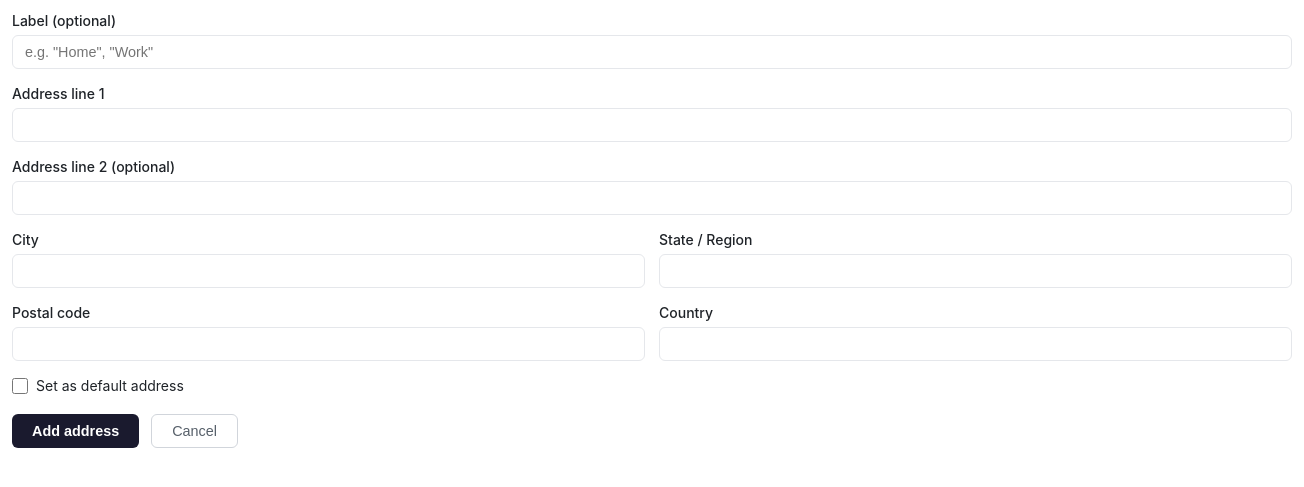
Test: AddressForm validation › shows error when country is too short
Type "123 Main St" into the field labelled "Address line 1". click: (652, 125)
box: [12,108,1292,142]
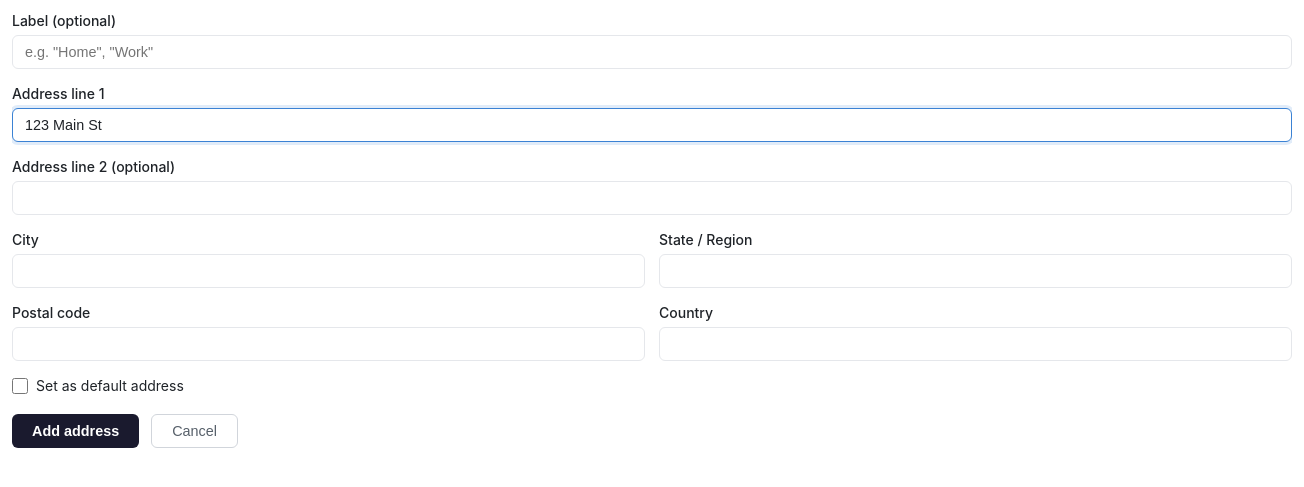
Type "Springfield" into the field labelled "City". click: (328, 271)
box: [12,254,645,288]
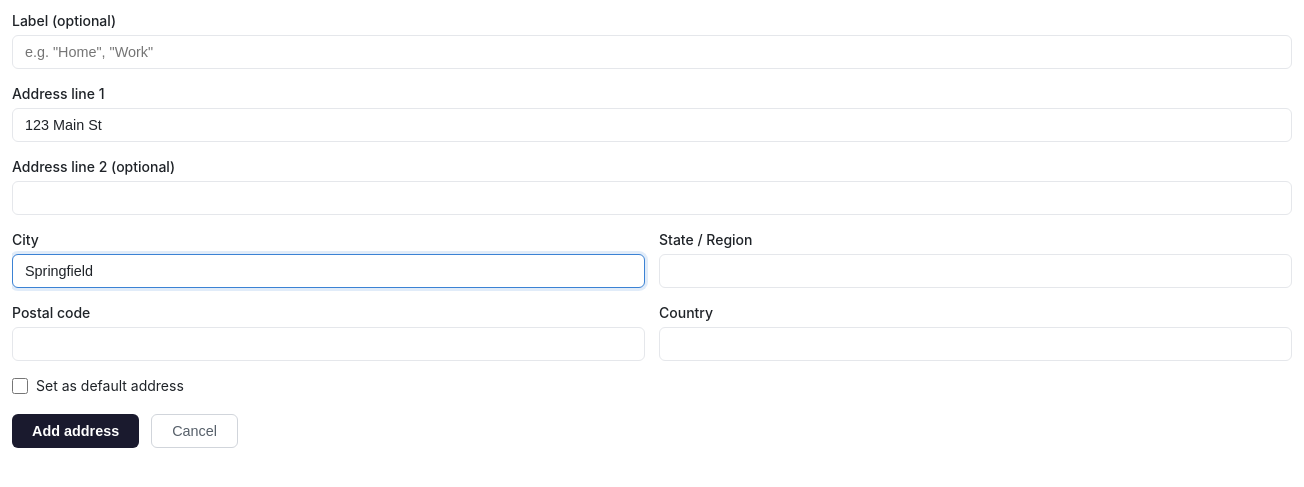
Type "IL" into the field labelled "State / Region". click: (976, 271)
box: [659,254,1292,288]
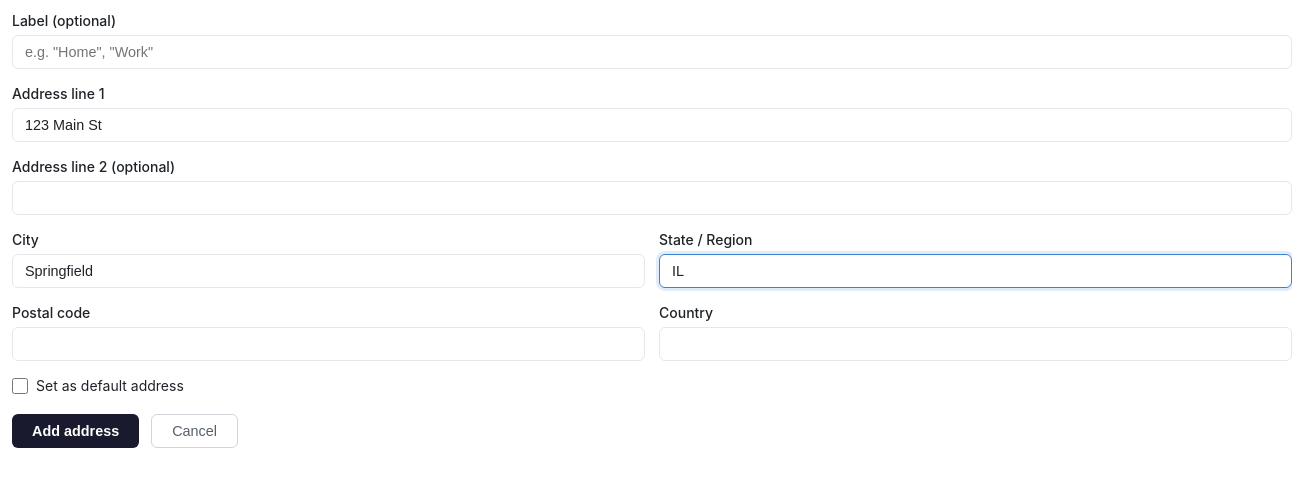
Type "62701" into the field labelled "Postal code". click: (328, 344)
box: [12,327,645,361]
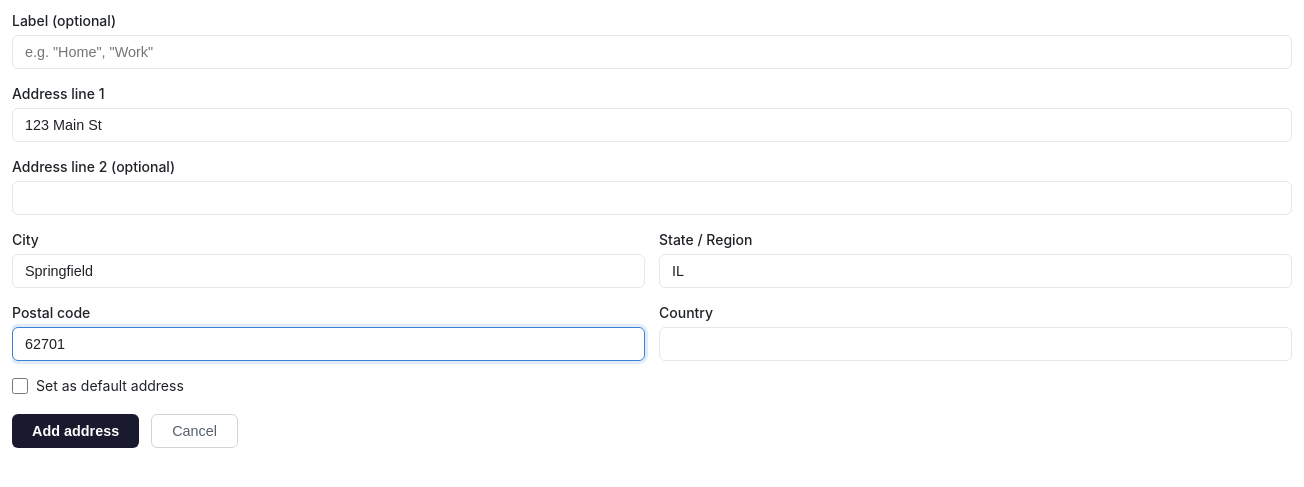
Type "U" into the field labelled "Country". click: (976, 344)
box: [659,327,1292,361]
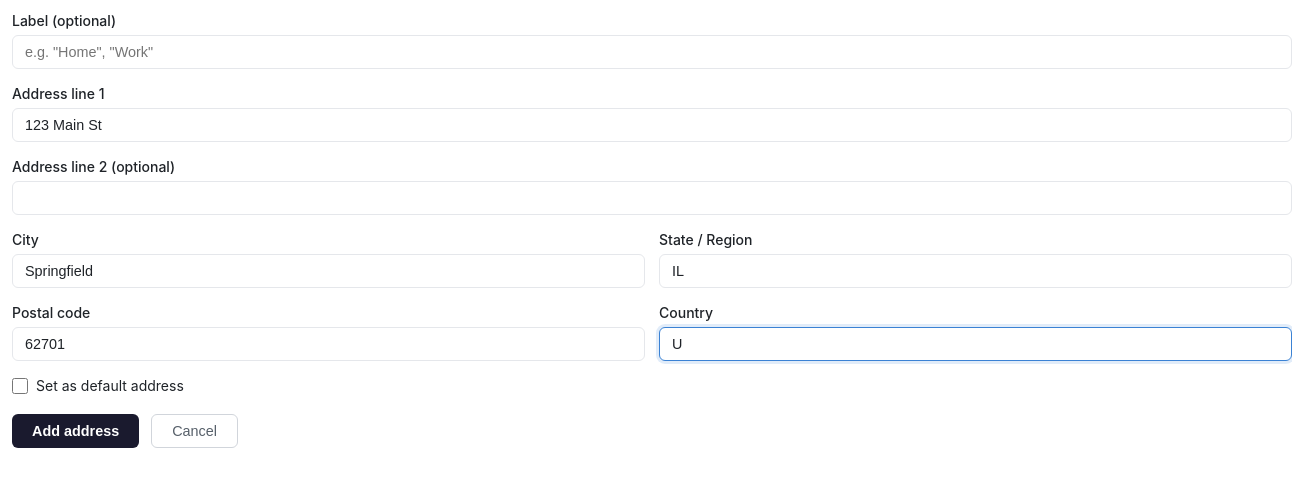
Click the button "Add address". click: (76, 431)
box: [12,414,139,448]
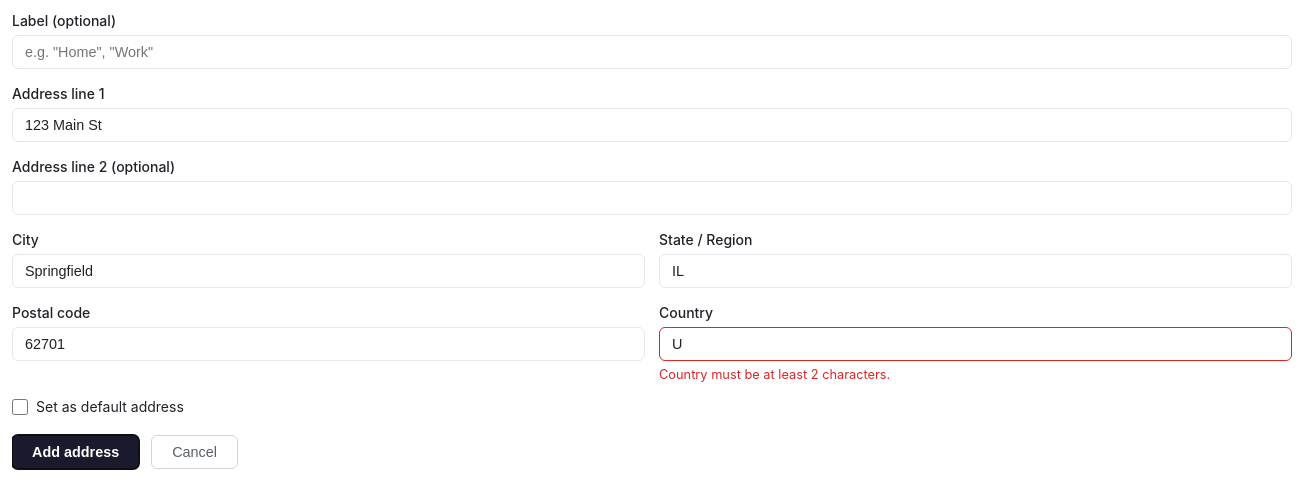
Expected: the text "Country must be at least 2 characters." is shown, [659,367,890,382]
